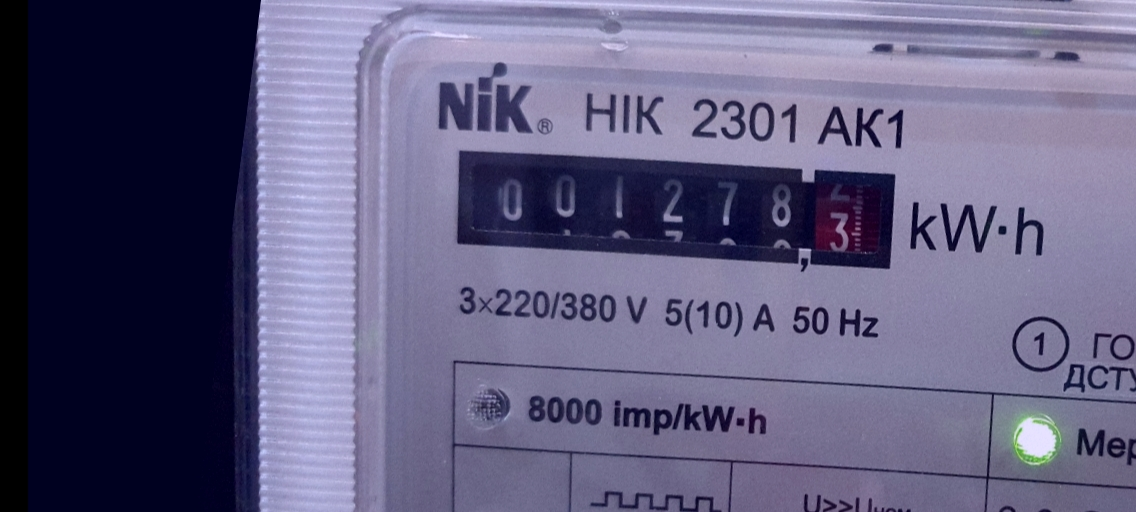0: (495, 173, 530, 224), (549, 171, 580, 220)
1: (608, 172, 631, 222)
2: (656, 175, 689, 225), (825, 181, 853, 205)
3: (823, 206, 854, 253)
7: (711, 177, 739, 228)
8: (765, 180, 796, 230)
screen: (427, 107, 919, 309)
